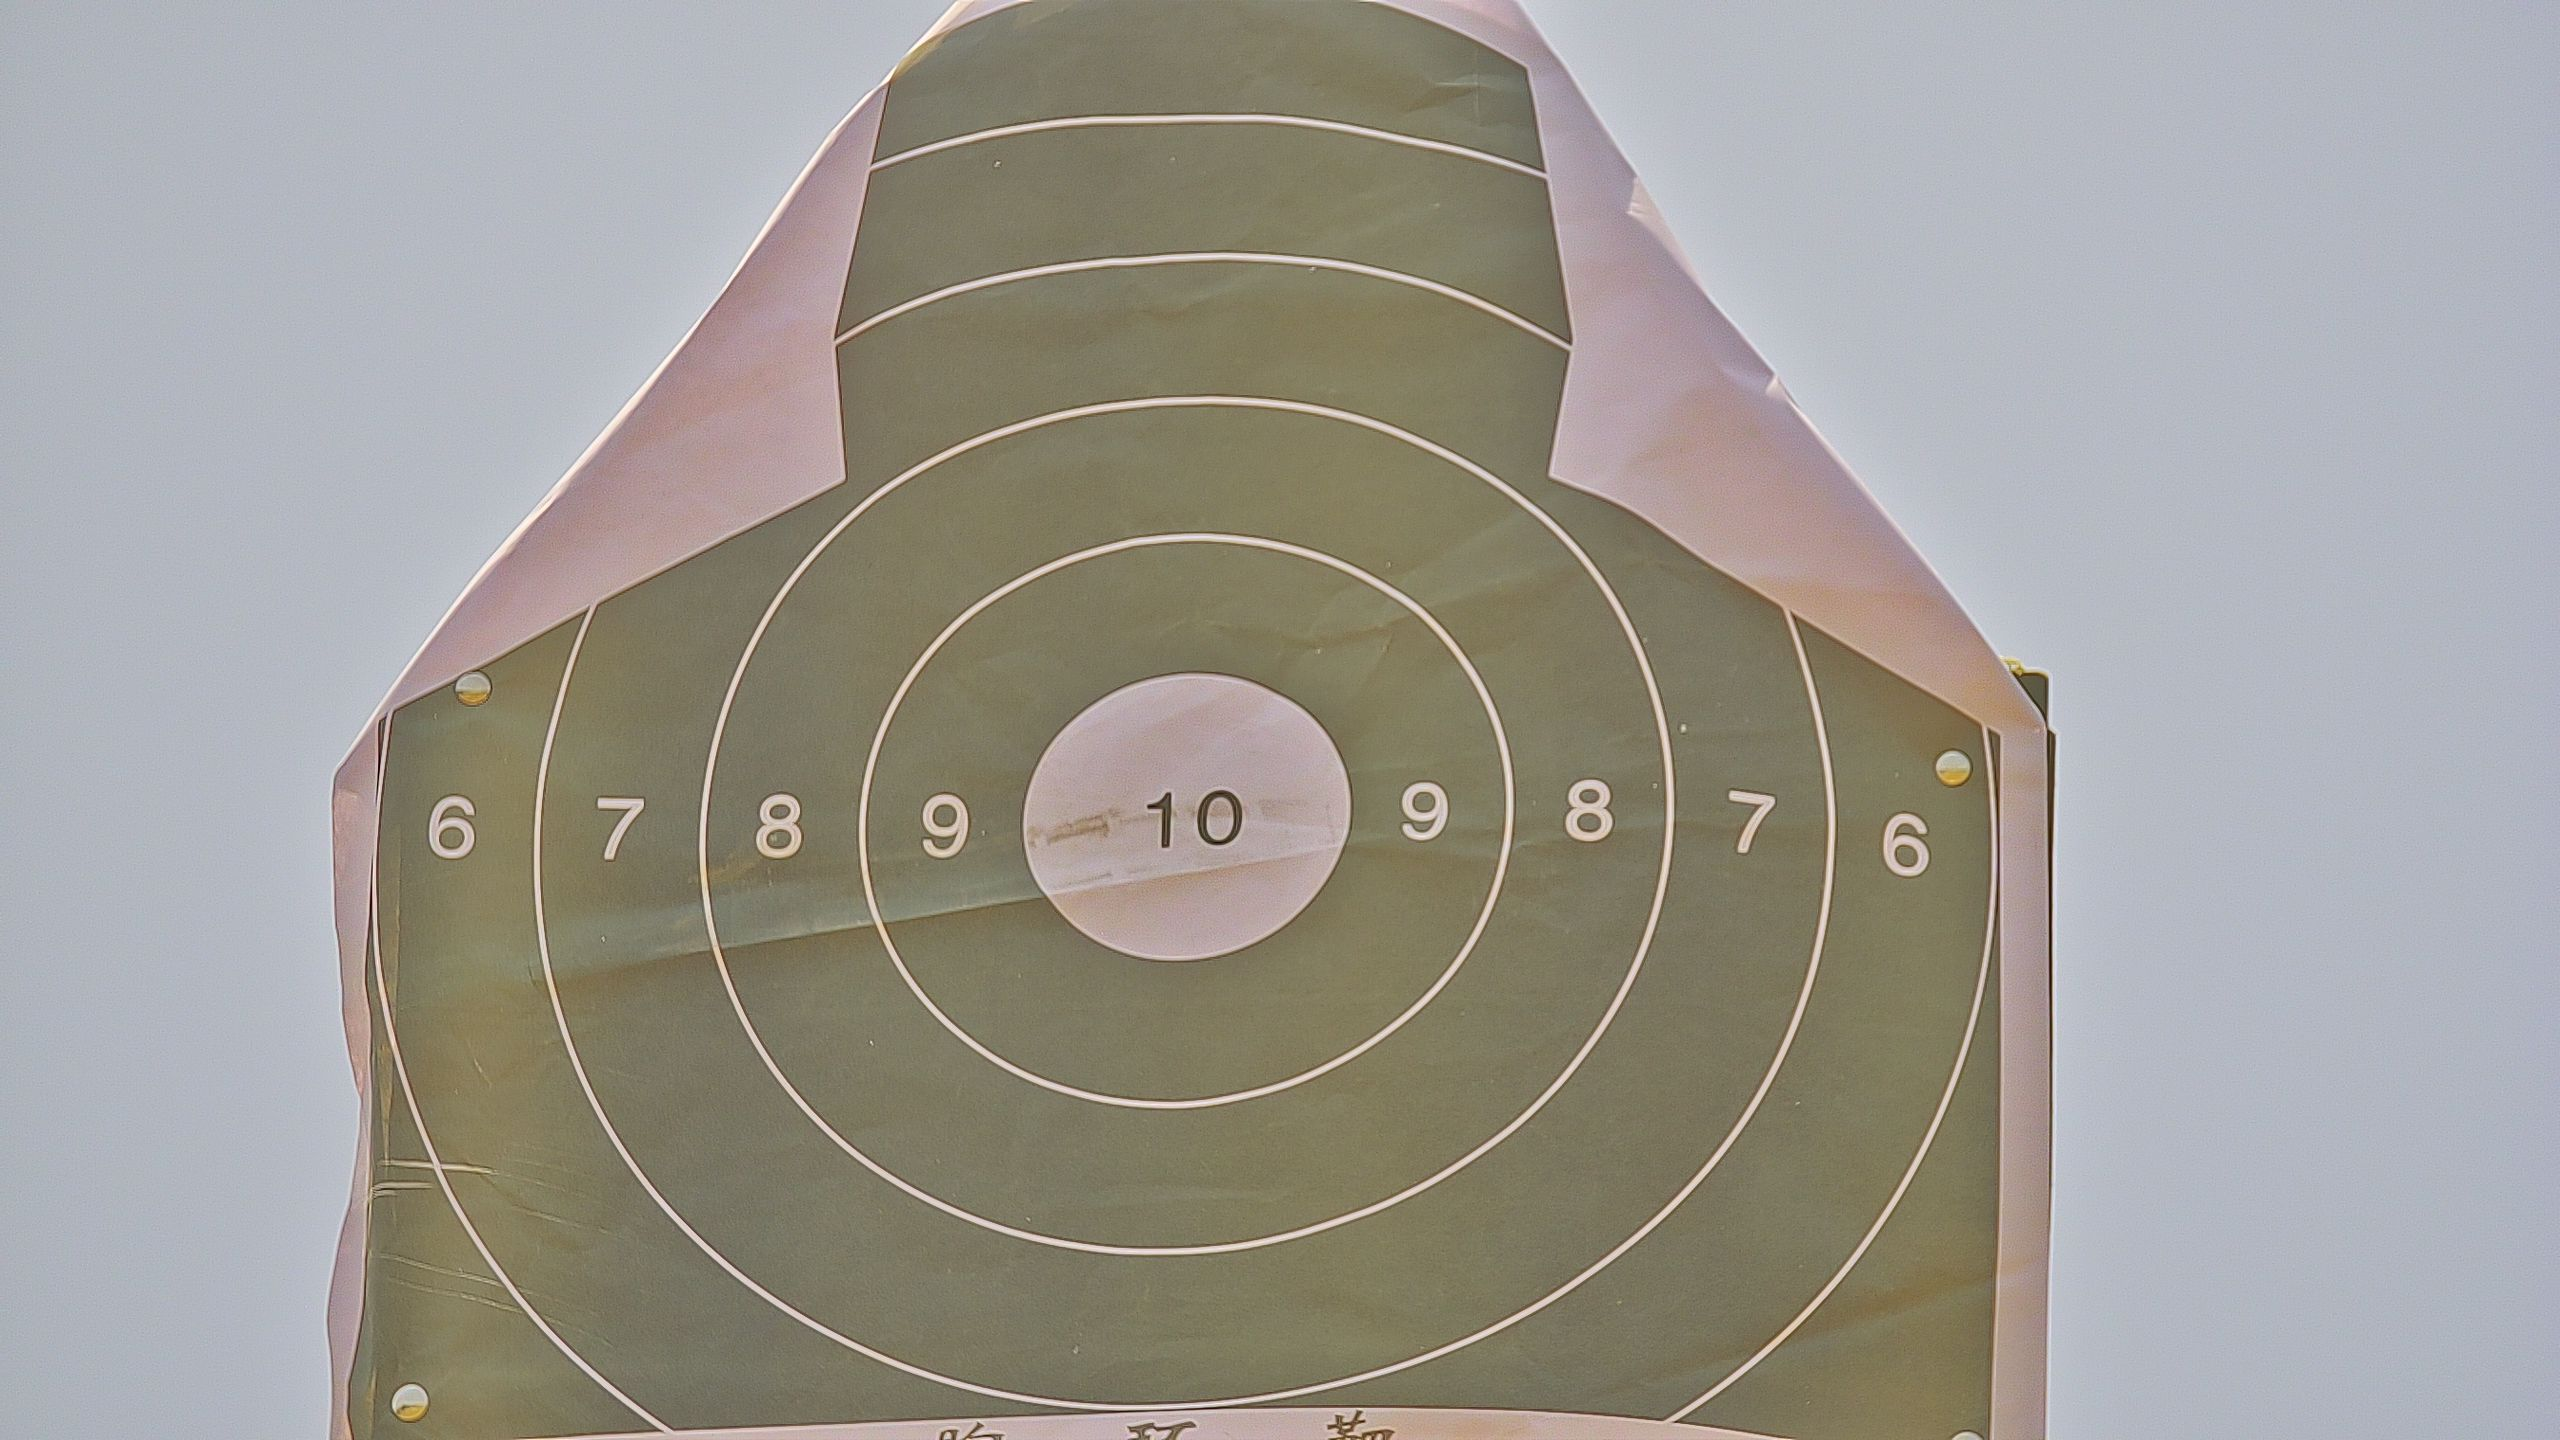kernel: (1182, 819, 1187, 825)
target: (339, 5, 2011, 1440)
ten: (1020, 668, 1350, 964)
